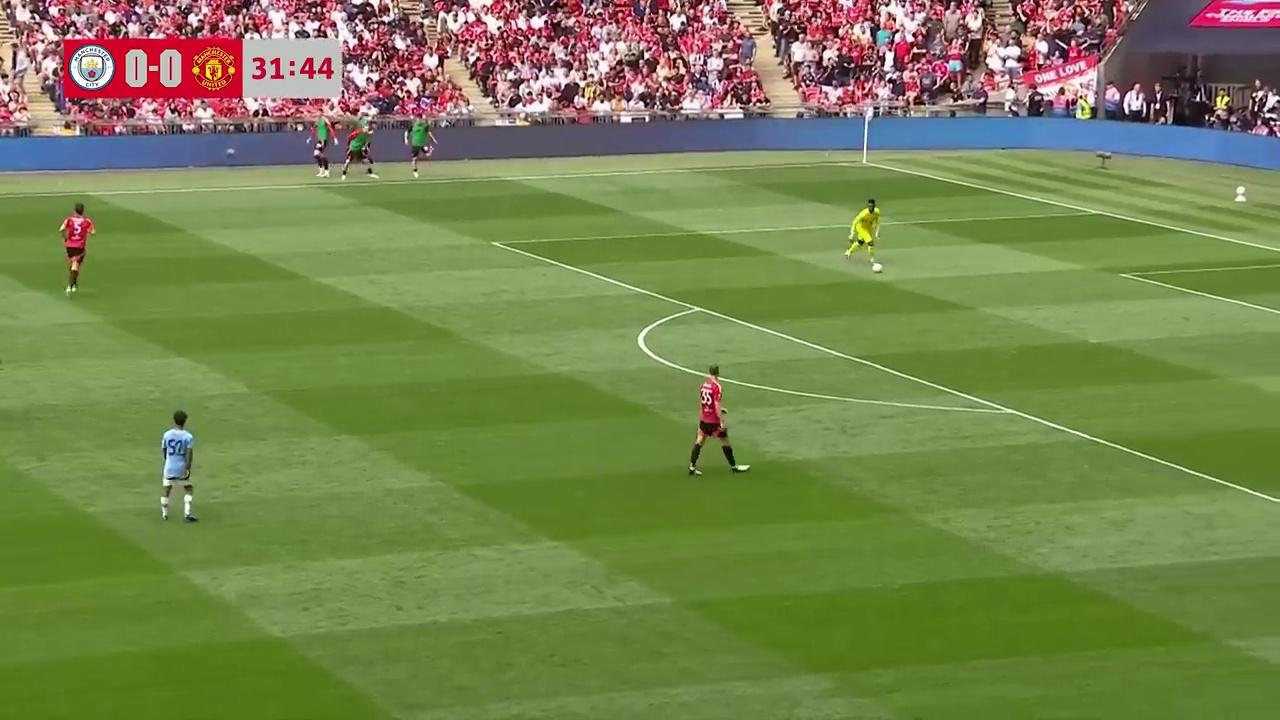ball: (871, 257, 883, 274)
player: (687, 366, 747, 477), (159, 410, 196, 524), (59, 202, 95, 295), (844, 203, 882, 269)
